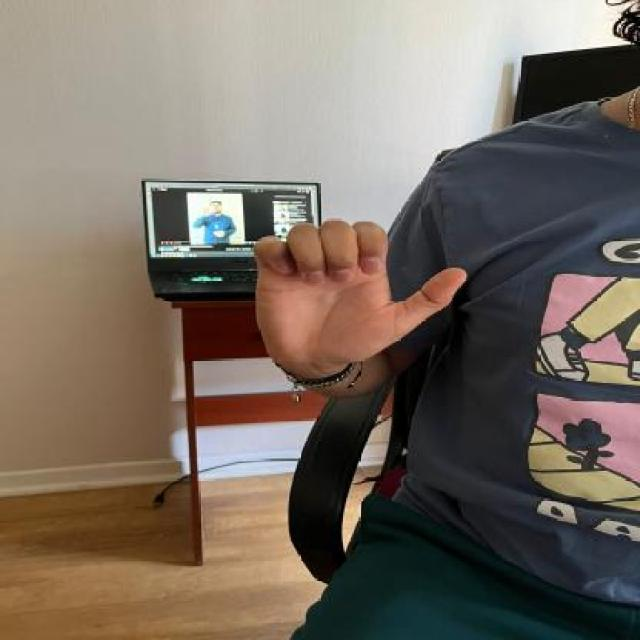E: (244, 213, 471, 359)
